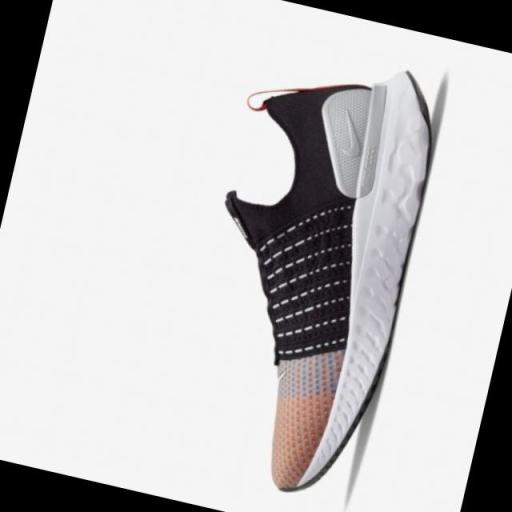Nike: (331, 106, 369, 163)
